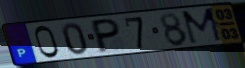0: (61, 21, 90, 57), (33, 24, 61, 59)
7: (122, 16, 145, 50)
8: (159, 12, 190, 47)
M: (180, 6, 226, 47)
P: (91, 17, 122, 55)
